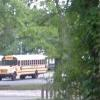Bus: (3, 49, 50, 80)
